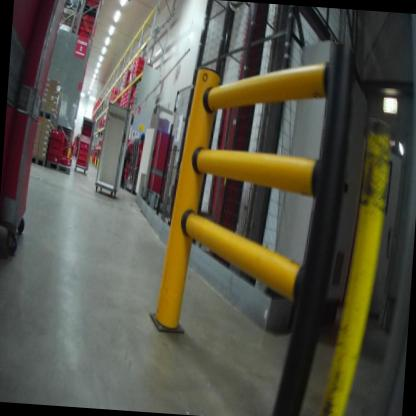pallet: (43, 158, 76, 178), (39, 110, 59, 130), (29, 153, 47, 169)
small_load_carrier: (47, 124, 66, 145), (43, 152, 63, 165), (75, 158, 92, 173), (46, 144, 64, 158), (47, 137, 66, 150), (60, 153, 72, 169), (80, 134, 90, 150), (78, 146, 90, 159), (76, 153, 90, 163)
